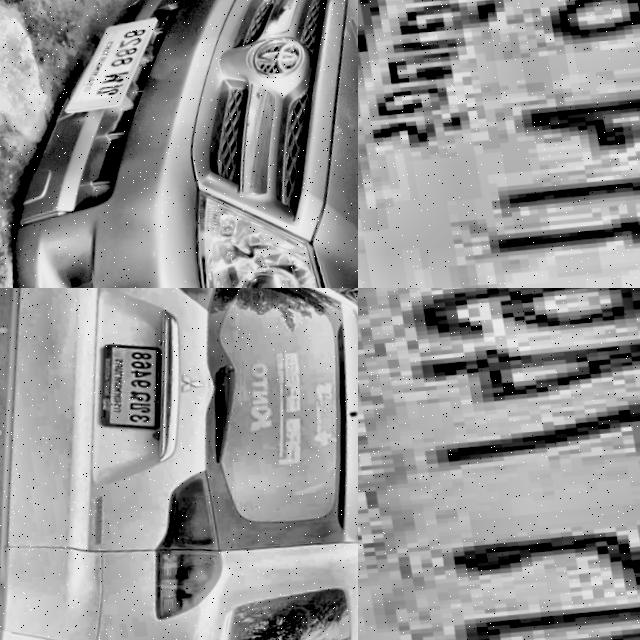license-plate: (358, 288, 640, 640), (358, 0, 640, 288), (39, 15, 167, 118), (80, 338, 173, 437)
